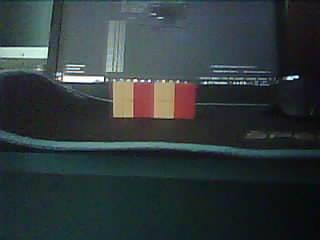lego: (112, 81, 197, 118)
